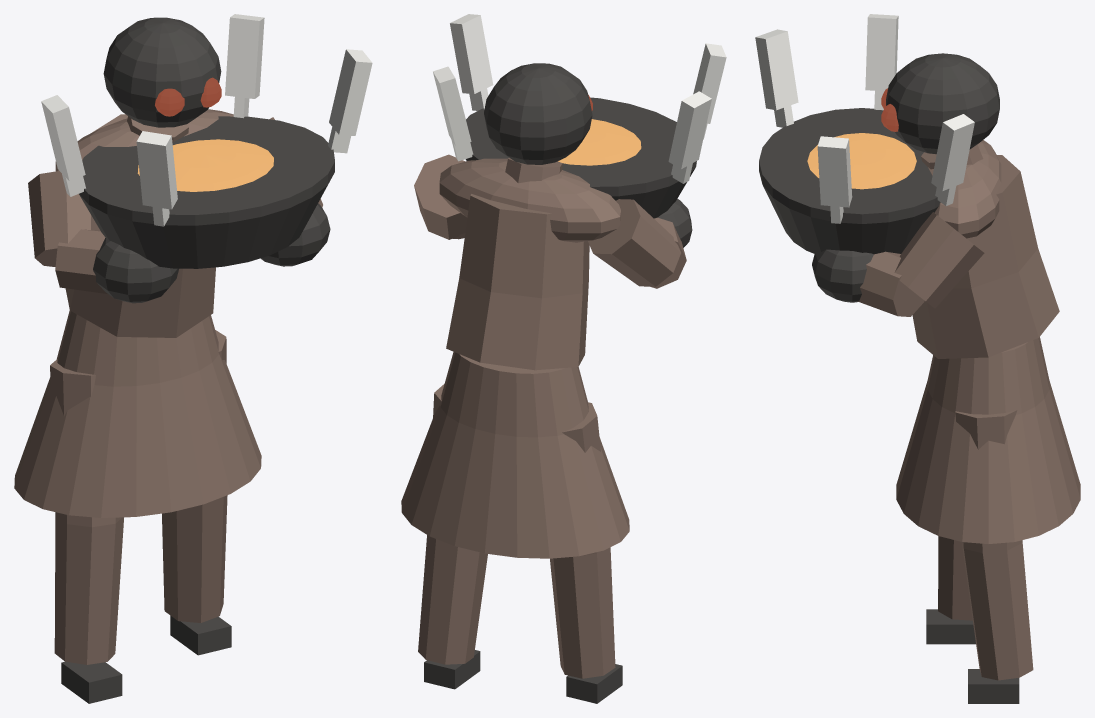
File: fanner.glb
The picture shows the model from 3 angles, left to right: view 1: azimuth 30°, elevation 25°; view 2: azimuth 150°, elevation 25°; view 3: azimuth 270°, elevation 25°; orthographic projection. The views are drawn at different scales.
Parts seen in each view (by area): view 1: fanner_body, fanner_dark, fanner_bone, fanner_glow, fanner_ember; view 2: fanner_body, fanner_dark, fanner_bone, fanner_glow; view 3: fanner_body, fanner_dark, fanner_bone, fanner_glow.
Part boxes in pixels (left/top/right/bottom): fanner_body: left=14, top=109, right=322, bottom=664; fanner_dark: left=61, top=17, right=334, bottom=703; fanner_bone: left=41, top=14, right=372, bottom=226; fanner_glow: left=137, top=139, right=273, bottom=191; fanner_ember: left=155, top=77, right=221, bottom=116; fanner_body: left=401, top=154, right=686, bottom=678; fanner_dark: left=424, top=63, right=696, bottom=703; fanner_bone: left=433, top=14, right=726, bottom=183; fanner_glow: left=558, top=119, right=641, bottom=165; fanner_body: left=857, top=140, right=1080, bottom=680; fanner_dark: left=759, top=53, right=1019, bottom=703; fanner_bone: left=755, top=14, right=974, bottom=223; fanner_glow: left=807, top=133, right=916, bottom=189.
Size of the model in its own units: 1.11 by 2.33 by 1.13.
